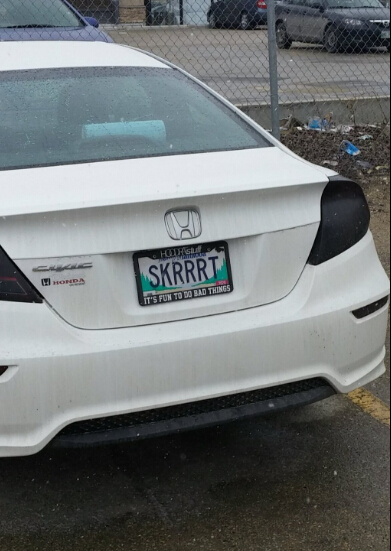license plate: (136, 241, 232, 301)
